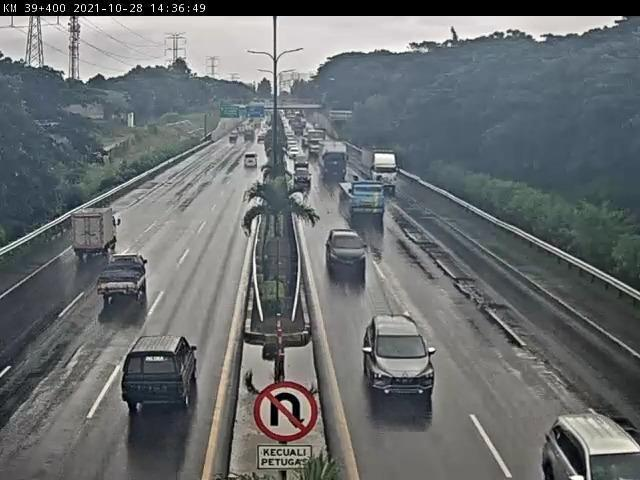car: (551, 395, 628, 480), (368, 304, 423, 391), (112, 342, 195, 397), (327, 219, 367, 280), (239, 160, 256, 179), (298, 167, 313, 184)
truck: (93, 248, 161, 315), (53, 214, 118, 274), (368, 147, 407, 183), (348, 188, 383, 219)
